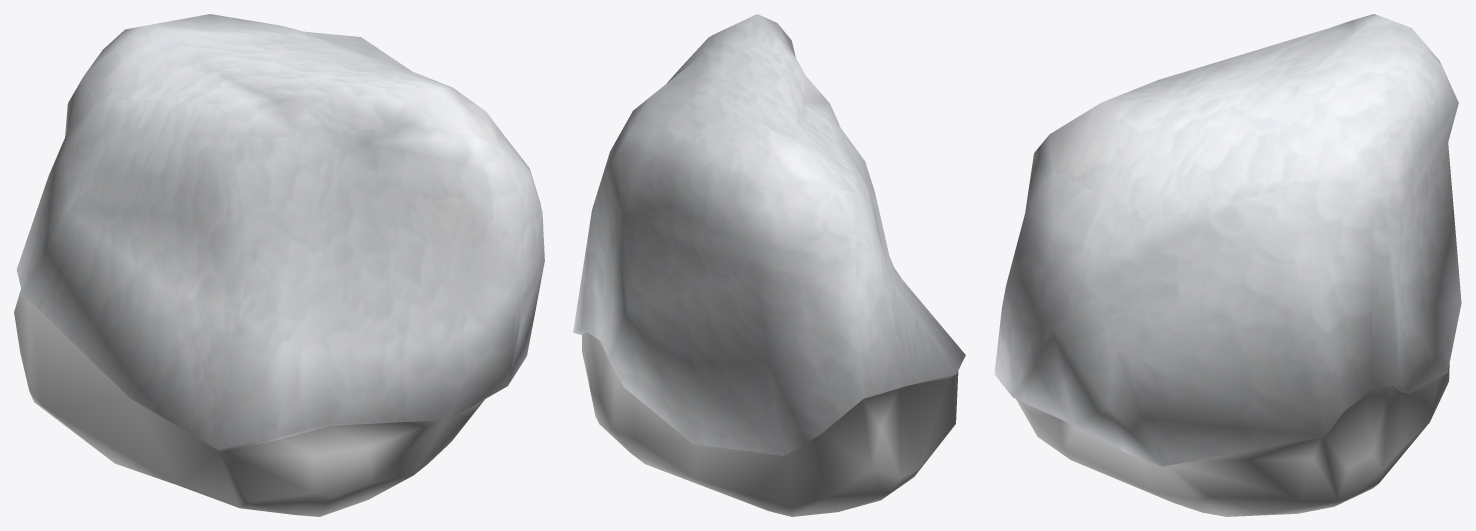
Rendered from rock_s05a.fbx.
3 views of the same model, side by side, from view 1: azimuth 30°, elevation 25°; view 2: azimuth 150°, elevation 25°; view 3: azimuth 270°, elevation 25° (orthographic). The views are drawn at different scales.
Visible parts, largest first — view 1: rock_s05a; view 2: rock_s05a; view 3: rock_s05a.
Part boxes in pixels (left/top/right/bottom): rock_s05a: left=14, top=14, right=544, bottom=516; rock_s05a: left=573, top=14, right=965, bottom=516; rock_s05a: left=994, top=14, right=1461, bottom=516.
Bounding box in the file's own units: 205 × 200 × 206.
